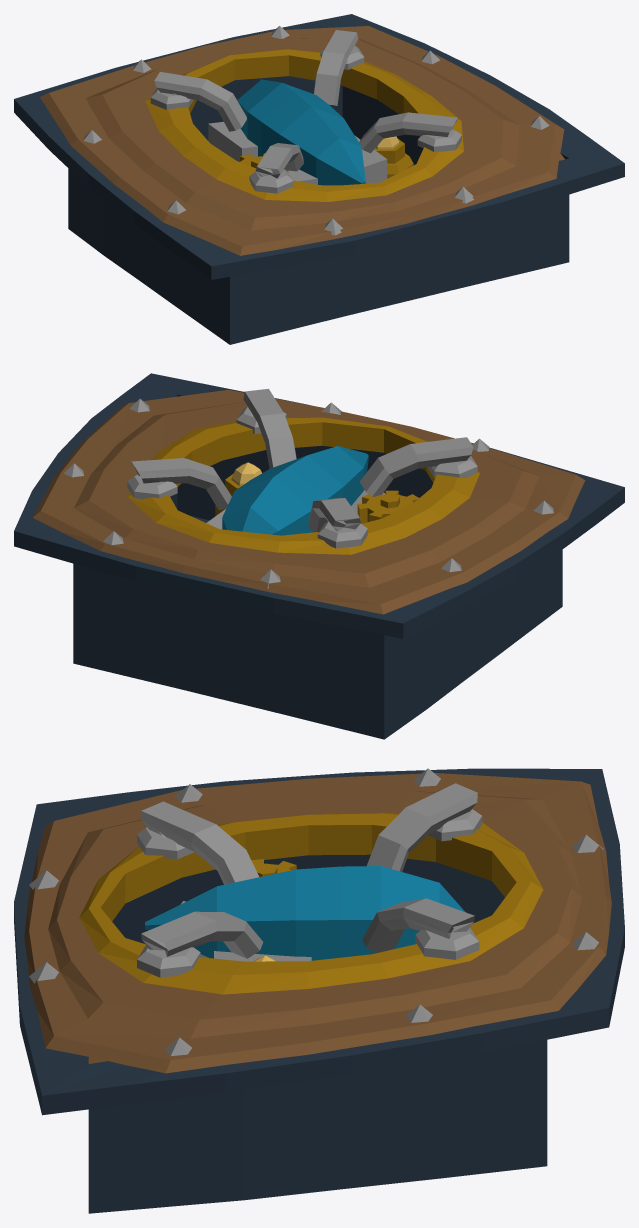
File: whimsical-energy-crystal-mount-f55f61.glb
The picture shows the model from 3 angles, top to bottom: view 1: azimuth 30°, elevation 25°; view 2: azimuth 150°, elevation 25°; view 3: azimuth 270°, elevation 25°; orthographic projection. The views are drawn at different scales.
Parts seen in each view (by area): view 1: middle-finger-metacarpal; view 2: middle-finger-metacarpal; view 3: middle-finger-metacarpal.
Part boxes in pixels (x1,y1,x2,y2): middle-finger-metacarpal: (14, 14, 624, 344); middle-finger-metacarpal: (14, 373, 624, 739); middle-finger-metacarpal: (14, 768, 624, 1213).
Bounding box in the file's own units: 0.0497 × 0.0176 × 0.0426.
